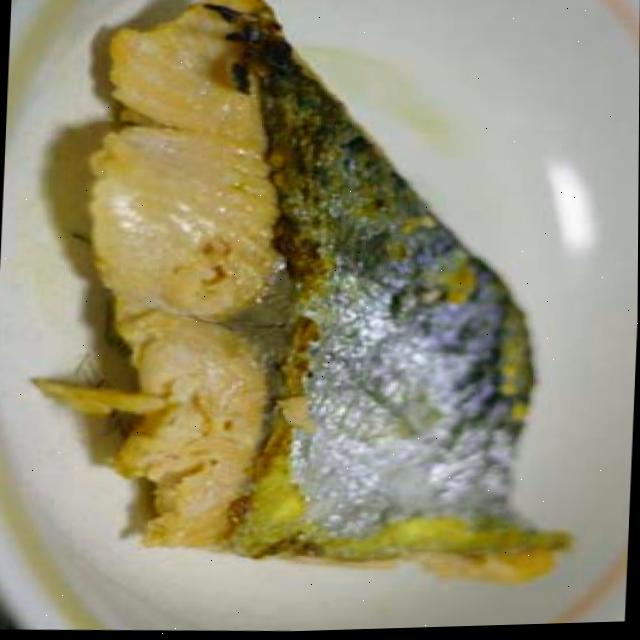熟制海鲜: (12, 0, 640, 632)
